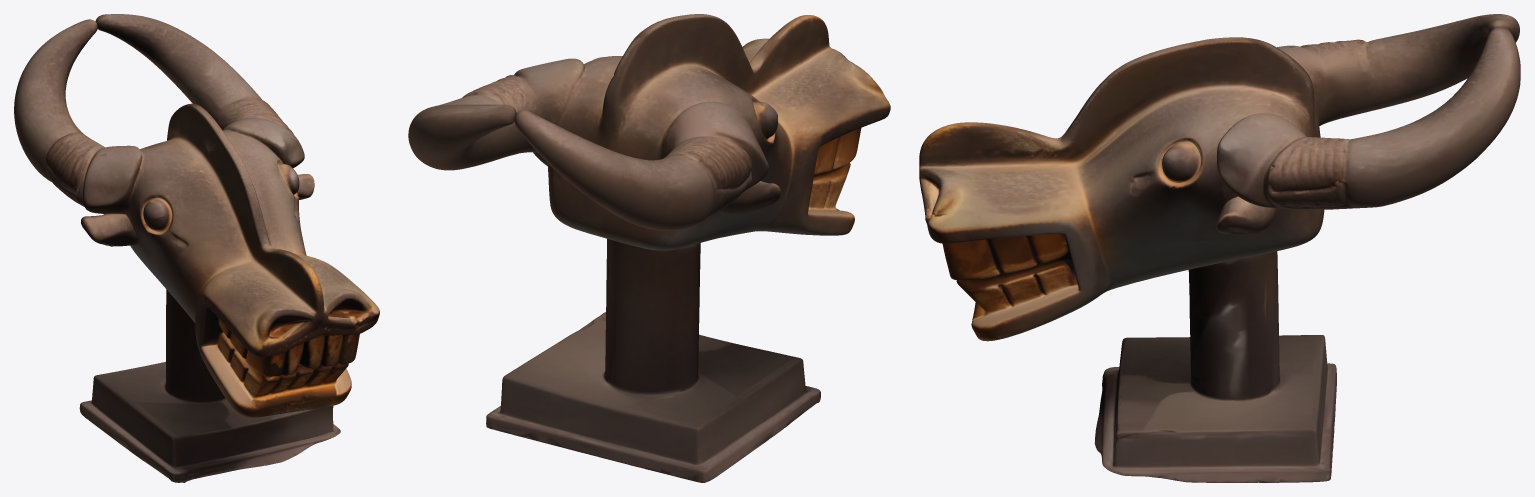
The model's file is buf1.glb.
3 views of the same model, side by side, from view 1: azimuth 30°, elevation 25°; view 2: azimuth 150°, elevation 25°; view 3: azimuth 270°, elevation 25° (orthographic). The views are drawn at different scales.
Parts seen in each view (by area): view 1: material; view 2: material; view 3: material.
Part boxes in pixels (x1,y1,x2,y2): material: (14, 14, 379, 482); material: (408, 14, 890, 482); material: (919, 14, 1520, 482).
Bounding box in the file's own units: 0.5182 × 0.7346 × 0.9829.
Materials: 1 (1 with a texture image).
